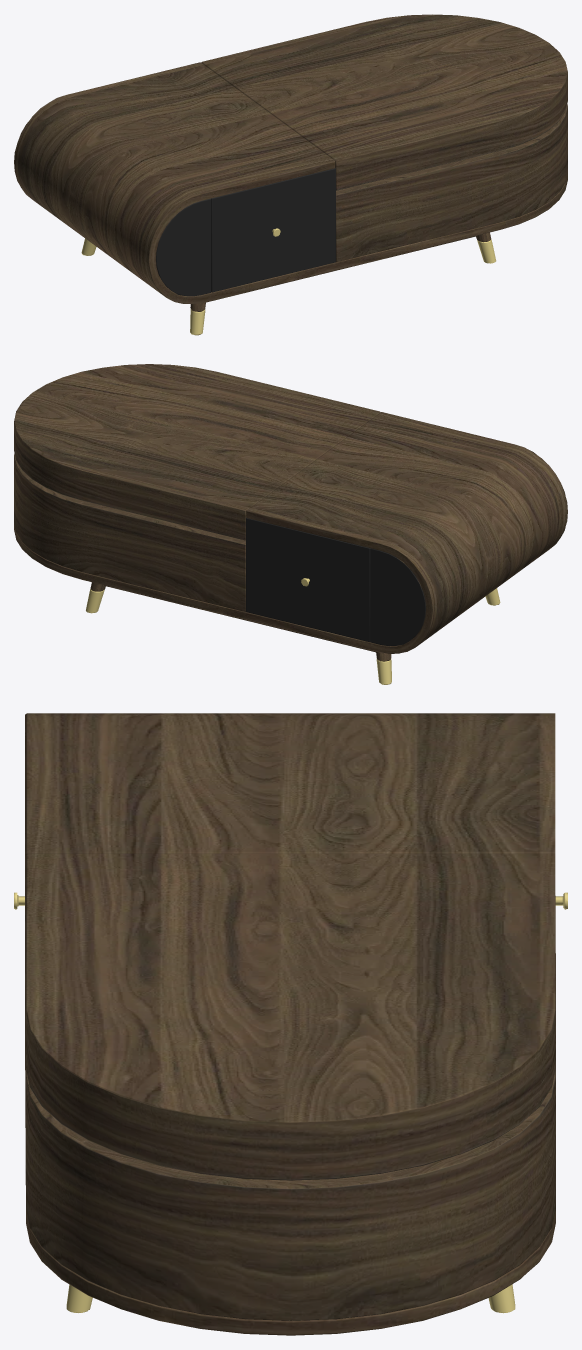
The model's file is furniture_1.glb.
The picture shows the model from 3 angles, top to bottom: view 1: azimuth 30°, elevation 25°; view 2: azimuth 150°, elevation 25°; view 3: azimuth 270°, elevation 25°; orthographic projection. The views are drawn at different scales.
Parts seen in each view (by area): view 1: GF_Modern Walnut Coffee Table; view 2: GF_Modern Walnut Coffee Table; view 3: GF_Modern Walnut Coffee Table.
Boxes of the visible parts, box(x1,y1,x2,y2) form: GF_Modern Walnut Coffee Table: box(14, 14, 567, 335); GF_Modern Walnut Coffee Table: box(14, 364, 567, 684); GF_Modern Walnut Coffee Table: box(14, 713, 567, 1335).
Bounding box in the file's own units: 1.3 × 0.4004 × 0.6797.
3 materials, 1 textured.
